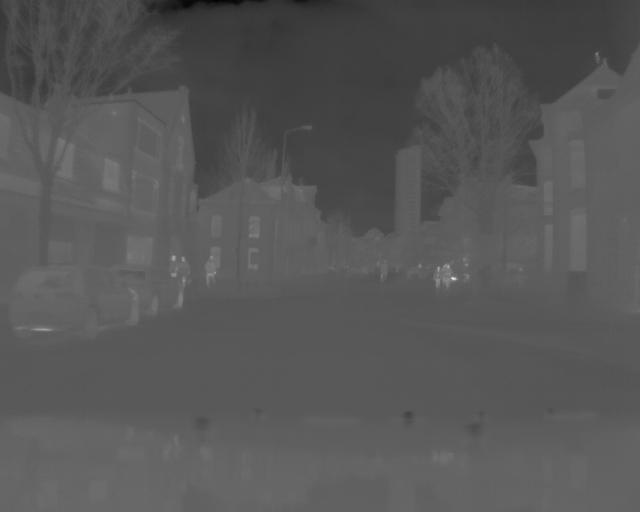car: (11, 266, 142, 340)
person: (204, 255, 218, 289), (179, 256, 188, 288), (434, 263, 442, 293)
